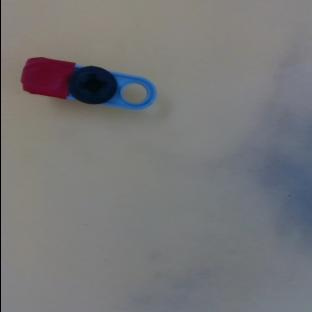part_1_good: (17, 54, 157, 115)
